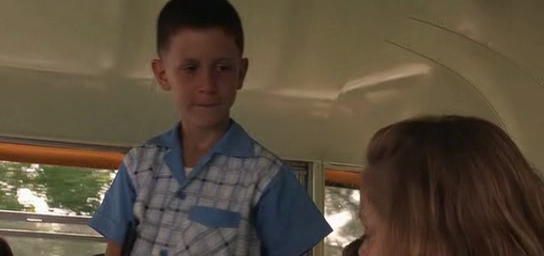face: (170, 37, 239, 129)
mcu: (1, 1, 544, 256)
person: (85, 1, 334, 256)
